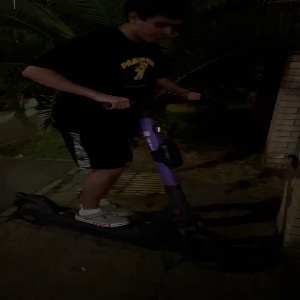human on a scooter: (12, 3, 234, 271)
